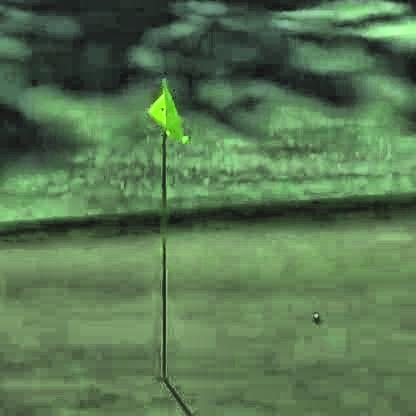golfball: (310, 307, 317, 318)
